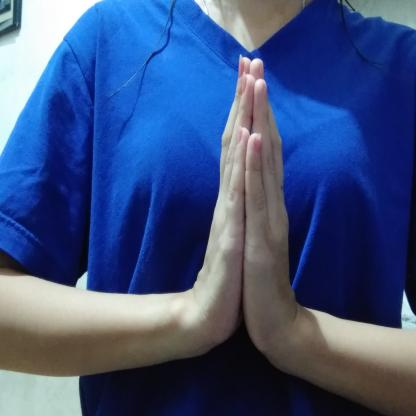sorry: (188, 47, 316, 383)
